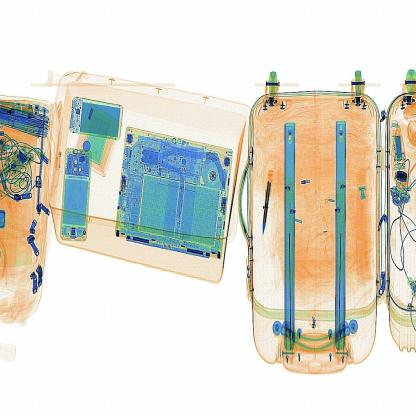gun: (254, 157, 280, 238)
